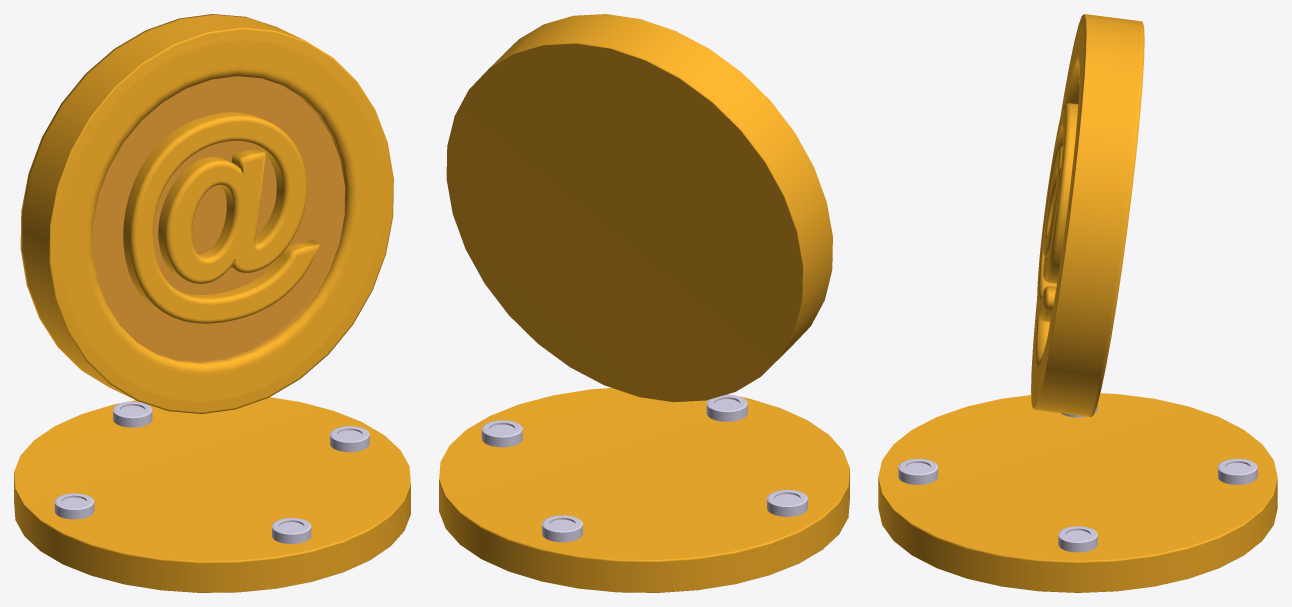
Rendered from email.glb.
The picture shows the model from 3 angles, left to right: view 1: azimuth 30°, elevation 25°; view 2: azimuth 150°, elevation 25°; view 3: azimuth 270°, elevation 25°; orthographic projection. The views are drawn at different scales.
Visible parts, largest first — view 1: Cylinder, Cylinder.001, Text, Cylinder.002, Cylinder.005, Cylinder.004, Cylinder.003; view 2: Cylinder, Cylinder.001, Cylinder.004, Cylinder.005, Cylinder.002, Cylinder.003; view 3: Cylinder.001, Cylinder, Text, Cylinder.004, Cylinder.003, Cylinder.005.
Part boxes in pixels (box(x1,y1,x2,y2)): Cylinder: box(20, 14, 393, 413); Cylinder.001: box(14, 397, 410, 592); Text: box(123, 112, 319, 323); Cylinder.002: box(54, 493, 94, 519); Cylinder.005: box(113, 401, 152, 427); Cylinder.004: box(330, 426, 369, 452); Cylinder.003: box(272, 518, 311, 543); Cylinder: box(446, 14, 832, 402); Cylinder.001: box(439, 388, 849, 592); Cylinder.004: box(481, 420, 522, 447); Cylinder.005: box(542, 515, 582, 542); Cylinder.002: box(767, 489, 807, 516); Cylinder.003: box(706, 394, 747, 421); Cylinder.001: box(878, 393, 1277, 592); Cylinder: box(1031, 14, 1144, 416); Text: box(1037, 103, 1078, 321); Cylinder.004: box(1058, 526, 1097, 552); Cylinder.003: box(898, 458, 937, 484); Cylinder.005: box(1218, 458, 1257, 484).
Size of the model in its own units: 2 by 2.63 by 2.
